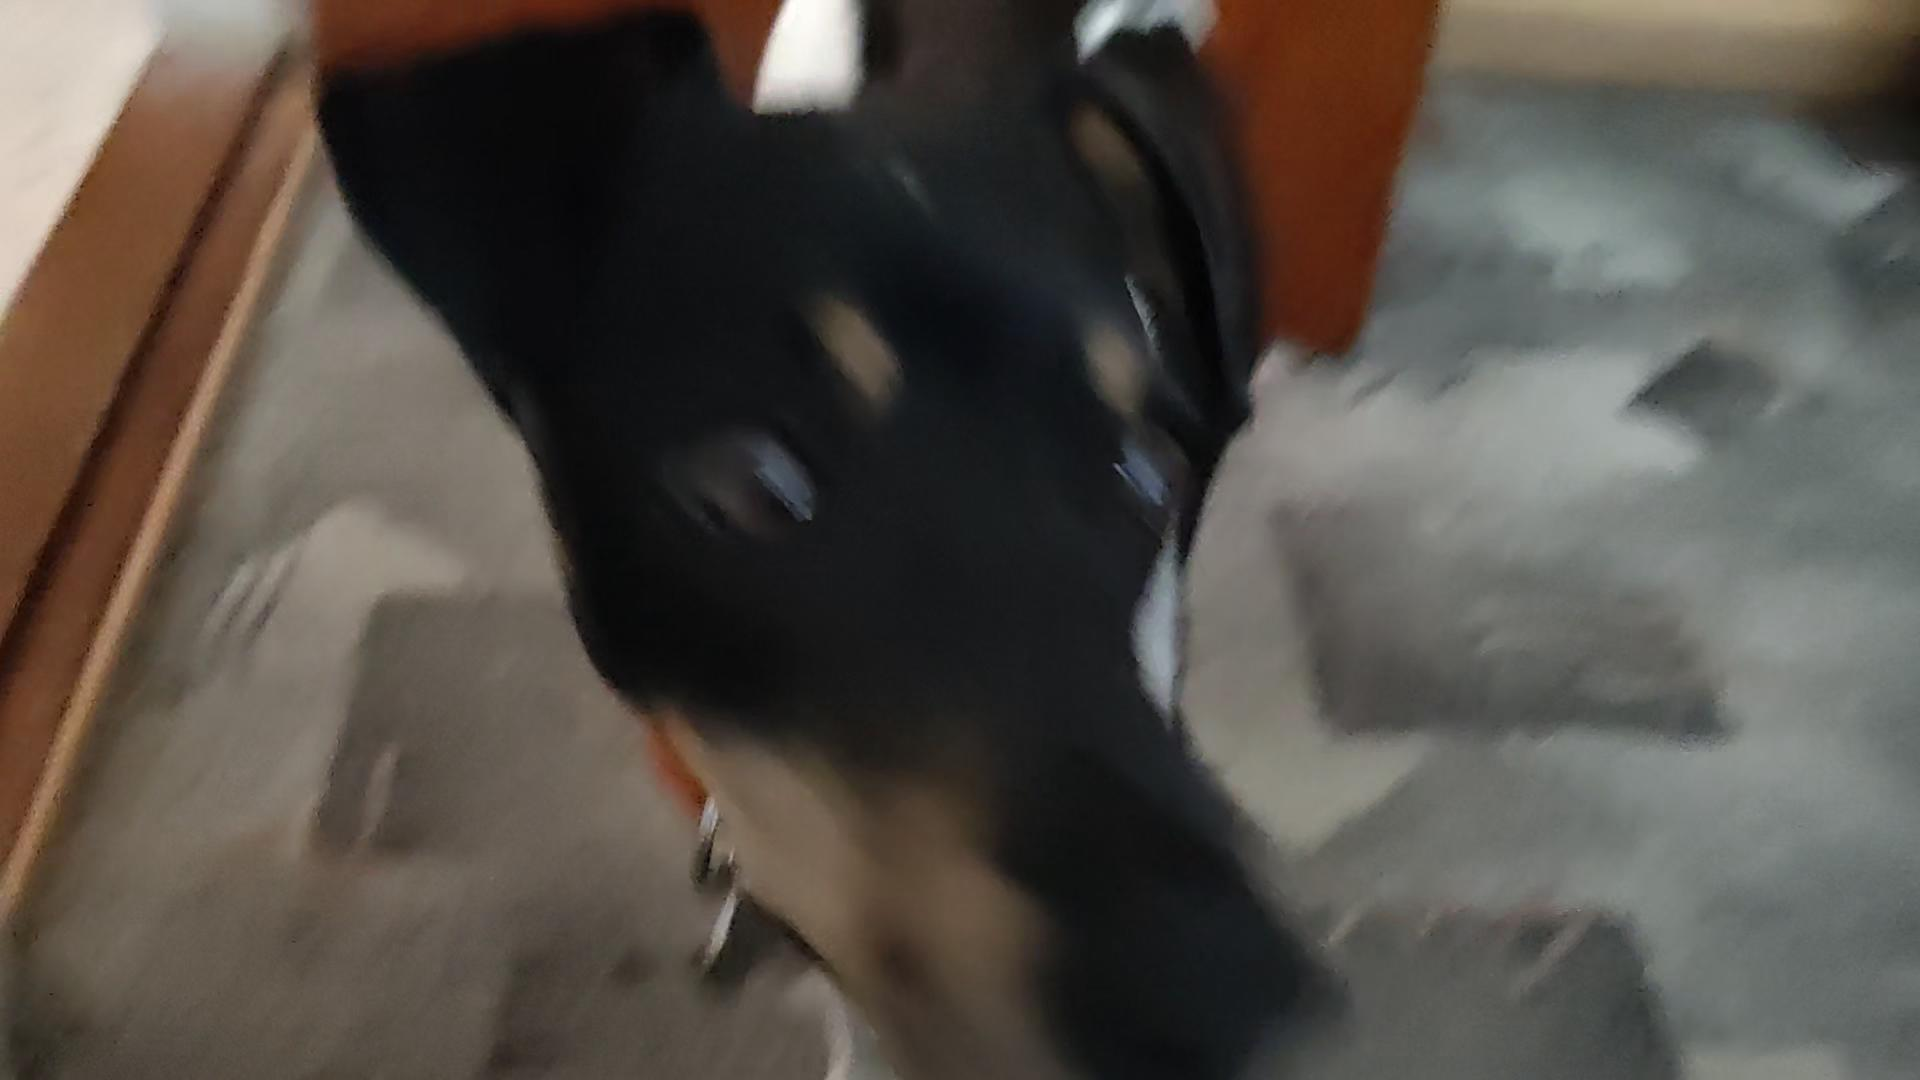Dog: (306, 0, 1386, 1080)
